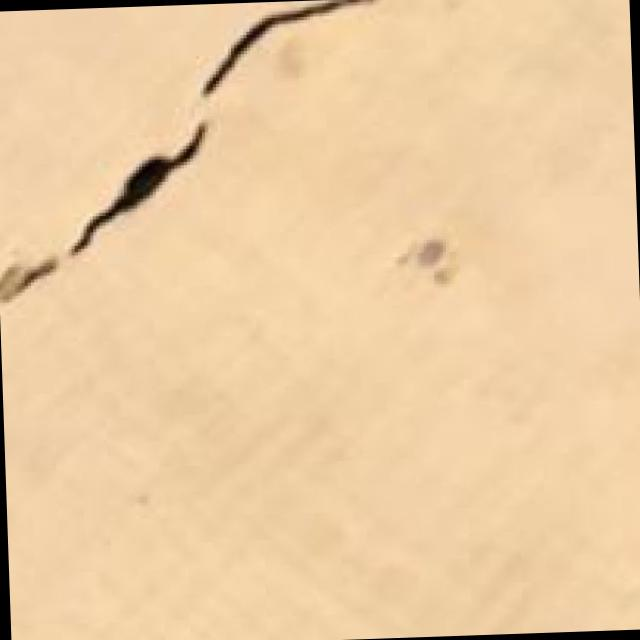crack: (0, 3, 424, 308)
